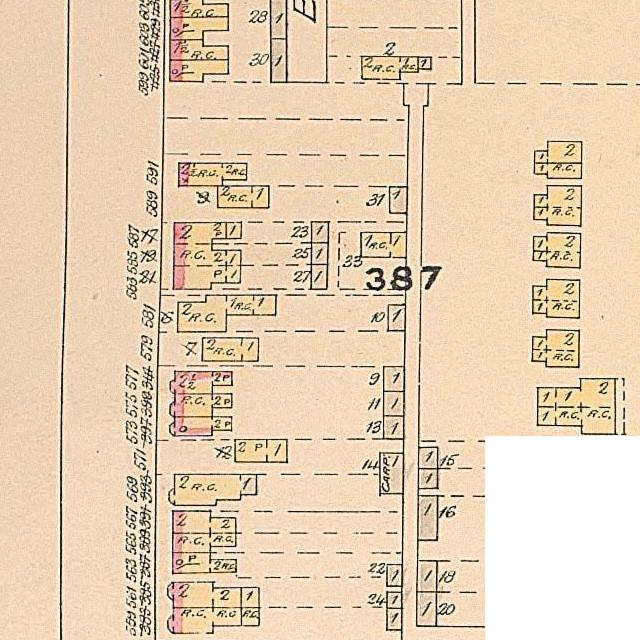building-footprints: (173, 223, 240, 289), (537, 379, 615, 434), (177, 295, 276, 332), (168, 474, 256, 505), (167, 607, 241, 633), (534, 186, 581, 226), (167, 583, 241, 608), (532, 280, 579, 318), (532, 330, 579, 367), (533, 233, 580, 267), (178, 163, 246, 186), (172, 511, 236, 533), (170, 394, 231, 417), (169, 17, 228, 40), (170, 372, 231, 394), (169, 60, 228, 82), (202, 338, 258, 361), (172, 553, 236, 573), (172, 533, 236, 553), (361, 57, 417, 79), (234, 439, 287, 462), (169, 40, 228, 60), (169, 417, 231, 436), (360, 233, 406, 258), (217, 186, 269, 208), (534, 141, 582, 163), (170, 0, 228, 18), (379, 453, 403, 493), (418, 496, 437, 540), (534, 163, 581, 179), (417, 592, 436, 626), (271, 39, 286, 82), (270, 0, 286, 39), (417, 560, 436, 592), (383, 366, 404, 392), (383, 392, 404, 416), (383, 416, 404, 439), (389, 187, 407, 213), (387, 305, 405, 331), (418, 447, 437, 468), (311, 265, 327, 289), (418, 469, 437, 489), (241, 587, 259, 608), (311, 222, 328, 243), (386, 565, 402, 587), (311, 243, 327, 264), (241, 608, 259, 626), (386, 609, 401, 630), (387, 592, 402, 609), (226, 222, 241, 238), (418, 57, 431, 69)
